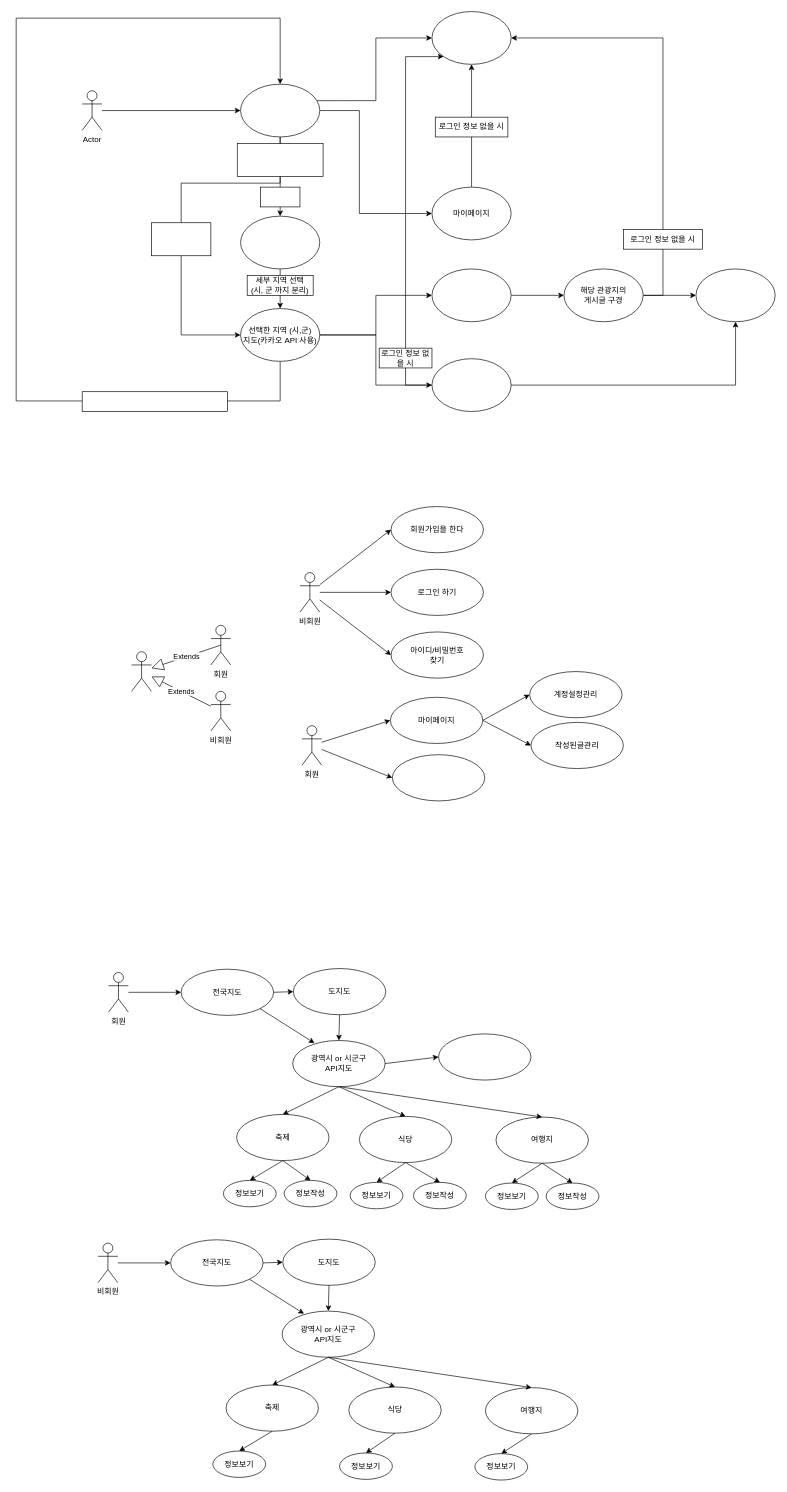
Image size: 787x1492. Some labels were removed from this diagram. The centre of each missing label's shape, as x and y in pixels:
광역시, 특별시, 제주도 선택 시: the point at 181,239
글쓰기: the point at 735,295
도 선택시: the point at 280,196
로그아웃: the point at 438,777
로그인 페이지: the point at 471,37
마크(관광지) 선택: the point at 471,295
메인 페이지 (전국 지도 이미지): the point at 280,110
사용자: the point at 141,671
새로운 마크(관광지) 생성: the point at 471,385
세부 지도 이미지: the point at 280,242
세부 지역 선택 (8개 도, 8개 광역시(특별시), 제주도): the point at 280,160
왼쪽 위 아이콘(메인 아이콘) 선택: the point at 154,401
코스 만들기: the point at 484,1056
